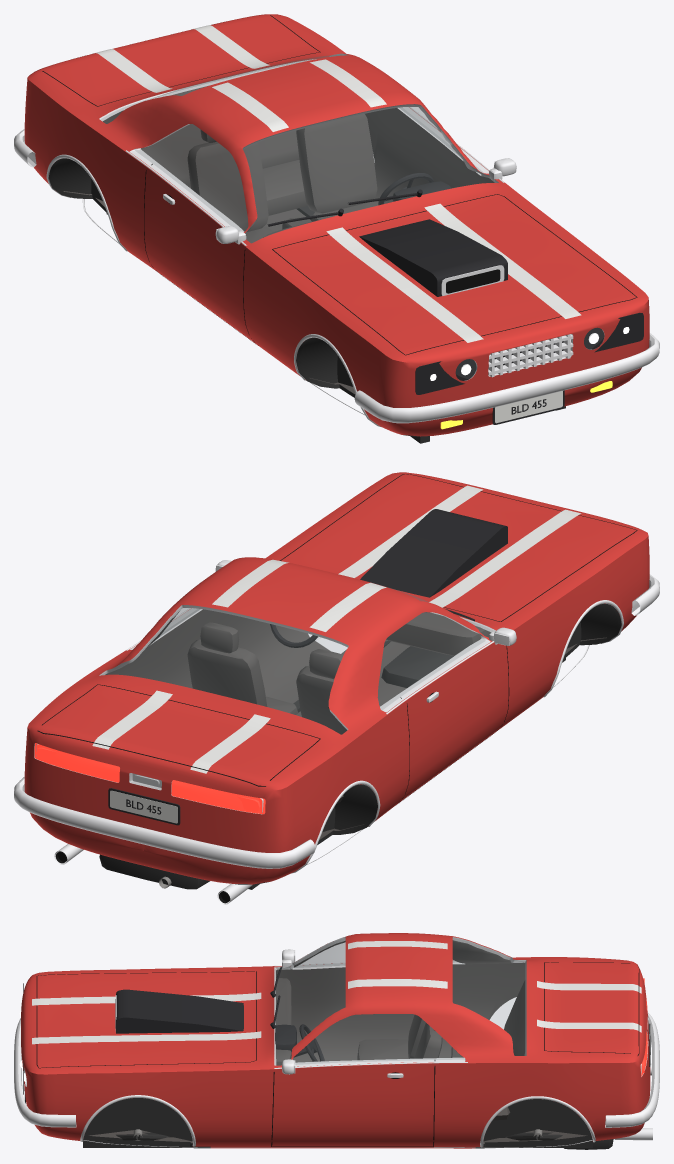
The model's file is muscle.glb.
The picture shows the model from 3 angles, top to bottom: view 1: azimuth 30°, elevation 25°; view 2: azimuth 150°, elevation 25°; view 3: azimuth 270°, elevation 25°; orthographic projection. The views are drawn at different scales.
Visible parts, largest first — view 1: Body, Glass_Front, Glass_S_R, Glass_Rear; view 2: Body, Glass_Rear, Glass_S_R; view 3: Body, Glass_S_L, Glass_Front, Glass_Rear, Glass_S_R.
Part boxes in pixels (bbox=[...]): Body: bbox=[14, 14, 659, 443]; Glass_Front: bbox=[243, 105, 496, 242]; Glass_S_R: bbox=[135, 124, 247, 231]; Glass_Rear: bbox=[101, 55, 343, 123]; Body: bbox=[14, 472, 659, 904]; Glass_Rear: bbox=[103, 606, 347, 734]; Glass_S_R: bbox=[378, 613, 485, 709]; Body: bbox=[14, 933, 659, 1149]; Glass_S_L: bbox=[293, 1014, 464, 1064]; Glass_Front: bbox=[275, 938, 345, 1065]; Glass_Rear: bbox=[453, 938, 525, 1055]; Glass_S_R: bbox=[295, 943, 455, 967].
Bounding box in the file's own units: 2.18 × 1.42 × 5.07.
